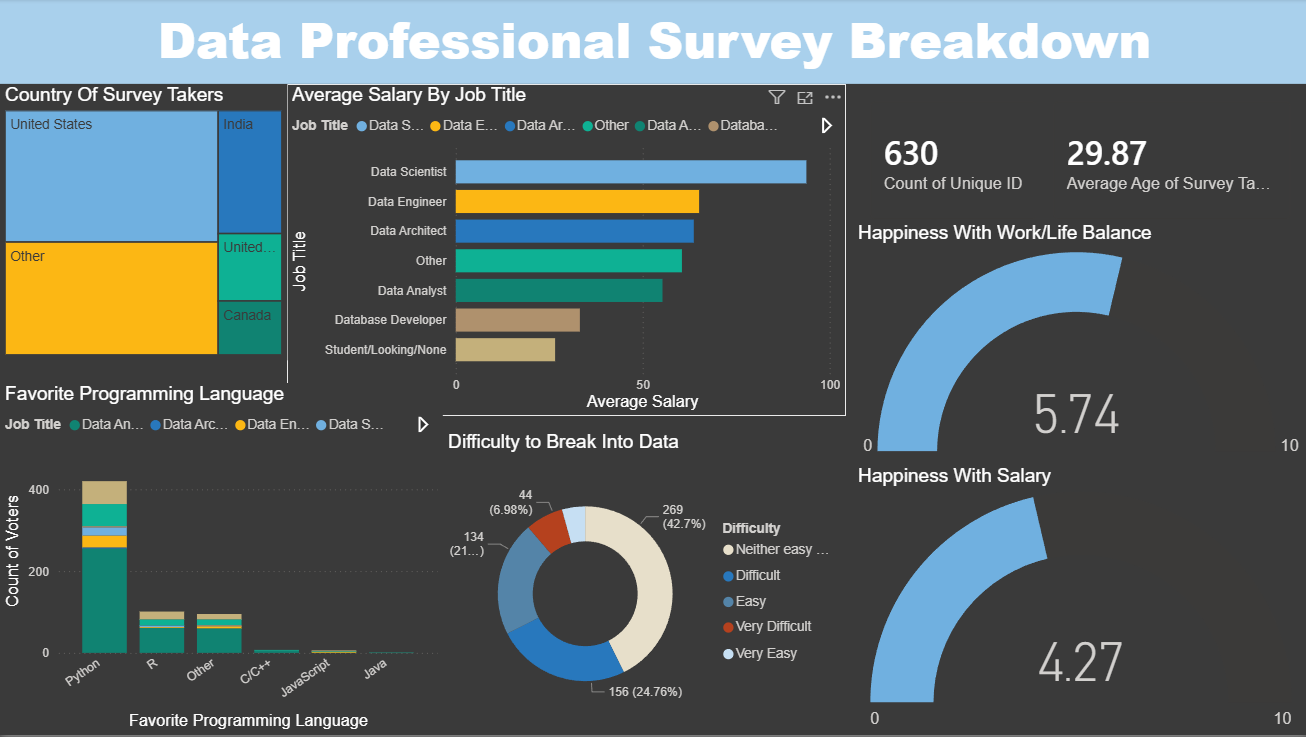

Layout of this report page (visuals, bound fields, positions):
{"tool":"powerbi","page":{"name":"Page 1","canvas":[1280,720],"ordinal":0},"visuals":[{"type":"textbox","box":[0,0,1280,82.8],"z":0},{"type":"cardVisual","fields":{"Data":["Count(Data Professional Survey (2).Unique ID)"]},"box":[834.1,83.1,197.5,149.6],"z":1000},{"type":"cardVisual","fields":{"Data":["Avg(Data Professional Survey (2).Q10 - Current Age)"]},"box":[1013,83.1,267,149.6],"z":2000},{"type":"barChart","title":"Average Salary By Job Title","fields":{"Category":["Data Professional Survey (2).Q1 - Which Title Best Fits your Current Role?.1"],"Y":["Avg(Data Professional Survey (2).Average Salary)"],"Series":["Data Professional Survey (2).Q1 - Which Title Best Fits your Current Role?.1"]},"box":[280.6,83.1,546.6,324.6],"z":3000},{"type":"treemap","title":"Country Of Survey Takers","fields":{"Values":["CountNonNull(Data Professional Survey (2).Q11 - Which Country do you live in?.1)"],"Group":["Data Professional Survey (2).Q11 - Which Country do you live in?.1"]},"box":[0,83.1,280.6,269.9],"z":4000},{"type":"gauge","title":"Happiness With Salary","fields":{"Y":["Avg(Data Professional Survey (2).Q6 - How Happy are you in your Current Position with the following? (Salary))"],"MinValue":["Min(Data Professional Survey (2).Q6 - How Happy are you in your Current Position with the following? (Salary))"],"MaxValue":["Max(Data Professional Survey (2).Q6 - How Happy are you in your Current Position with the following? (Salary))"]},"box":[834.1,455.7,445.9,264],"z":5000},{"type":"gauge","title":"Happiness With Work/Life Balance","fields":{"Y":["Avg(Data Professional Survey (2).Q6 - How Happy are you in your Current Position with the following? (Work/Life Balance)"],"MinValue":["Min(Data Professional Survey (2).Q6 - How Happy are you in your Current Position with the following? (Work/Life Balance)"],"MaxValue":["Max(Data Professional Survey (2).Q6 - How Happy are you in your Current Position with the following? (Work/Life Balance)"]},"box":[834.1,218.1,445.9,237.6],"z":6000},{"type":"donutChart","title":"Difficulty to Break Into Data","fields":{"Y":["CountNonNull(Data Professional Survey (2).Average Salary)"],"Category":["Data Professional Survey (2).Q7 - How difficult was it for you to break into Data?"]},"box":[433.2,422.4,394.1,297.3],"z":7000},{"type":"columnChart","title":"Favorite Programming Language","fields":{"Category":["Data Professional Survey (2).Q5 - Favorite Programming Language.1"],"Series":["Data Professional Survey (2).Q1 - Which Title Best Fits your Current Role?.1"],"Y":["CountNonNull(Data Professional Survey (2).Unique ID)"]},"box":[0,375.5,433.2,344.2],"z":8000}]}

Visuals, with their boxes in screenshot pixels (x1, y1, x2, y2), scaled from the page's 1280x720 canvas onto the 1306x737 screenshot:
textbox: [0,0,1305,85]
cardVisual - Count(Data Professional Survey (2).Unique ID): [851,85,1053,238]
cardVisual - Avg(Data Professional Survey (2).Q10 - Current Age): [1034,85,1305,238]
"Average Salary By Job Title" barChart: [286,85,844,417]
"Country Of Survey Takers" treemap: [0,85,286,361]
"Happiness With Salary" gauge: [851,466,1305,736]
"Happiness With Work/Life Balance" gauge: [851,223,1305,466]
"Difficulty to Break Into Data" donutChart: [442,432,844,736]
"Favorite Programming Language" columnChart: [0,384,442,736]
